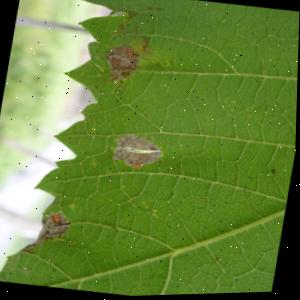Folha: (0, 0, 300, 300)
Fungo: (24, 202, 83, 261), (109, 131, 168, 173), (97, 40, 146, 90), (51, 213, 75, 227), (51, 212, 66, 225), (134, 161, 147, 170), (273, 168, 279, 175)
